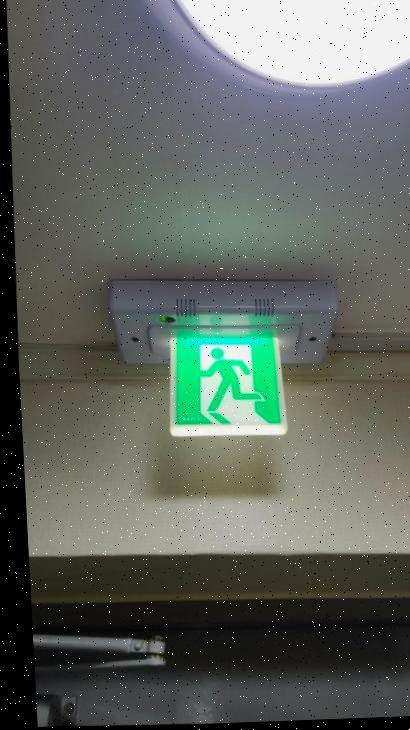emergency_exit: (168, 327, 288, 437)
